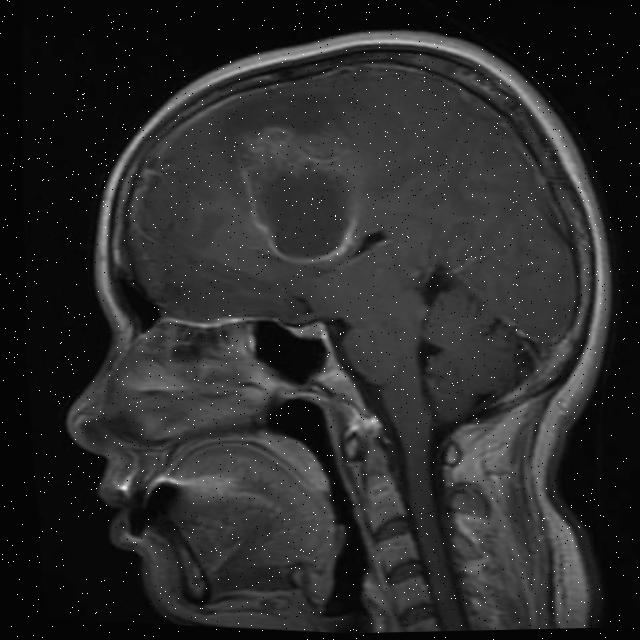Glioma: (229, 115, 370, 267)
